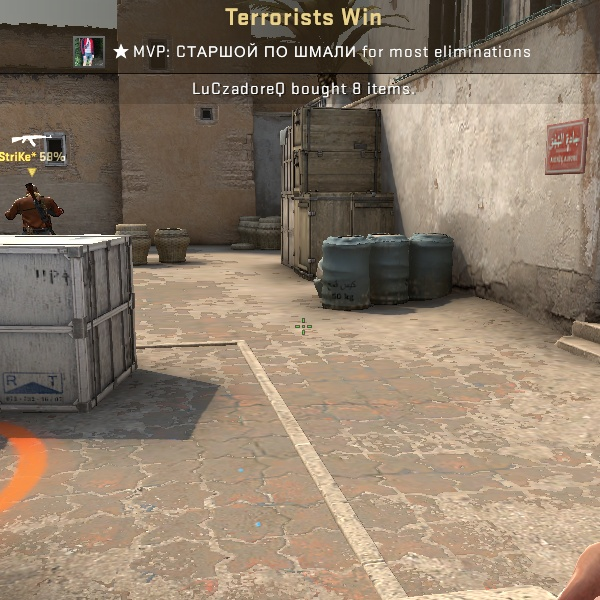t_body: (4, 177, 66, 237)
t_head: (21, 179, 43, 201)
